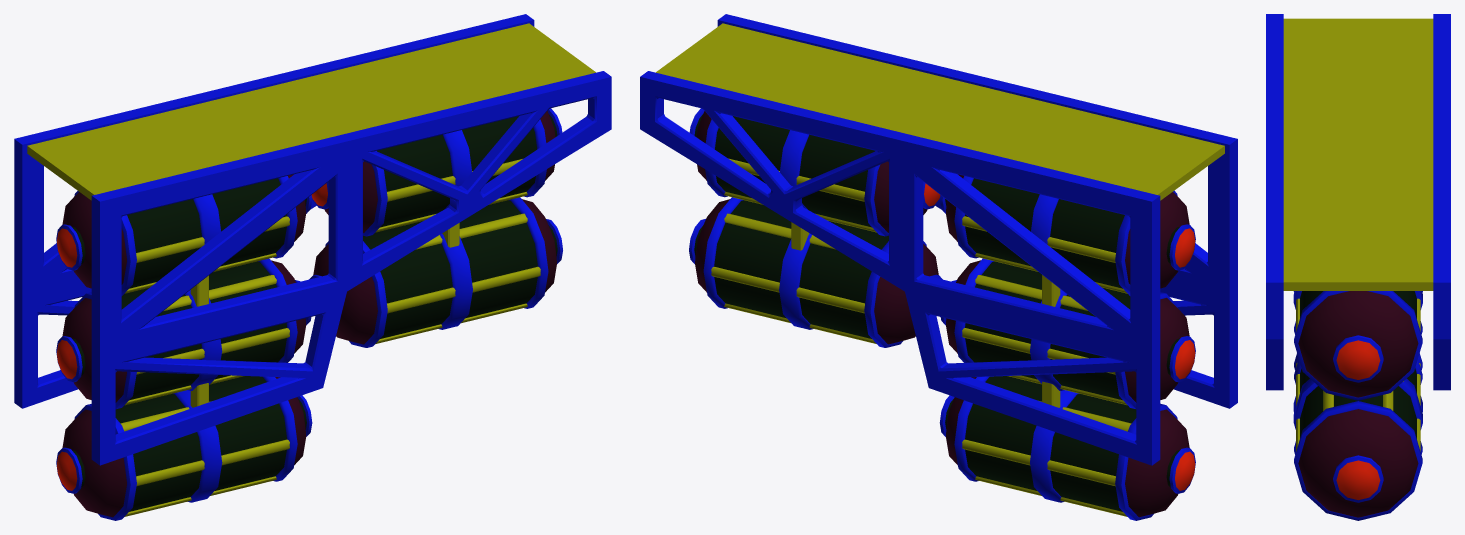
File: OBJ_Armature_Corniche.fbx
The picture shows the model from 3 angles, left to right: view 1: azimuth 30°, elevation 25°; view 2: azimuth 150°, elevation 25°; view 3: azimuth 270°, elevation 25°; orthographic projection. The views are drawn at different scales.
Visible parts, largest first — view 1: OBJ_Armature_Corniche; view 2: OBJ_Armature_Corniche; view 3: OBJ_Armature_Corniche.
Part boxes in pixels (x1=…): OBJ_Armature_Corniche: x1=14, y1=14, x2=611, y2=520; OBJ_Armature_Corniche: x1=640, y1=14, x2=1237, y2=520; OBJ_Armature_Corniche: x1=1266, y1=14, x2=1450, y2=520.
Size of the model in its own units: 57.59 by 38.47 by 16.72.
